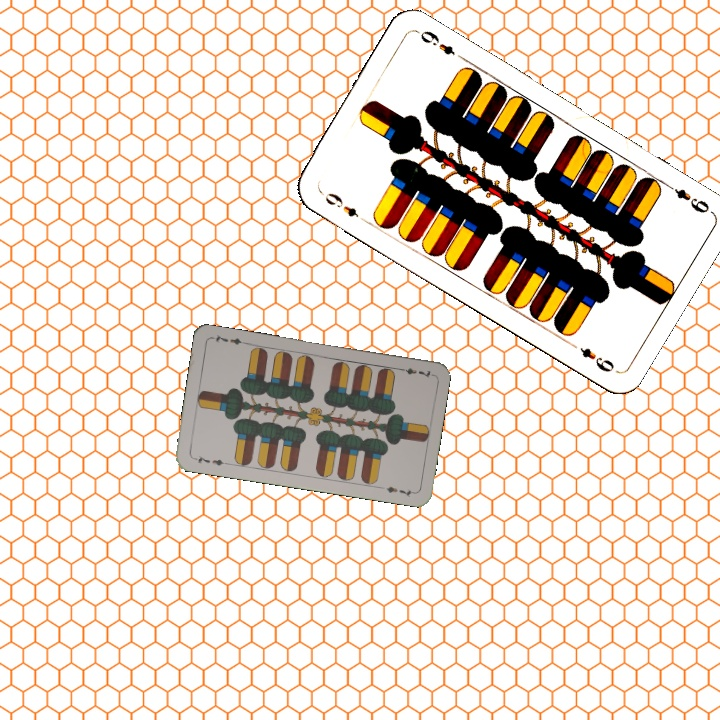E7: (394, 364, 434, 381), (189, 452, 230, 468)
E9: (316, 187, 369, 225), (660, 179, 712, 216)
